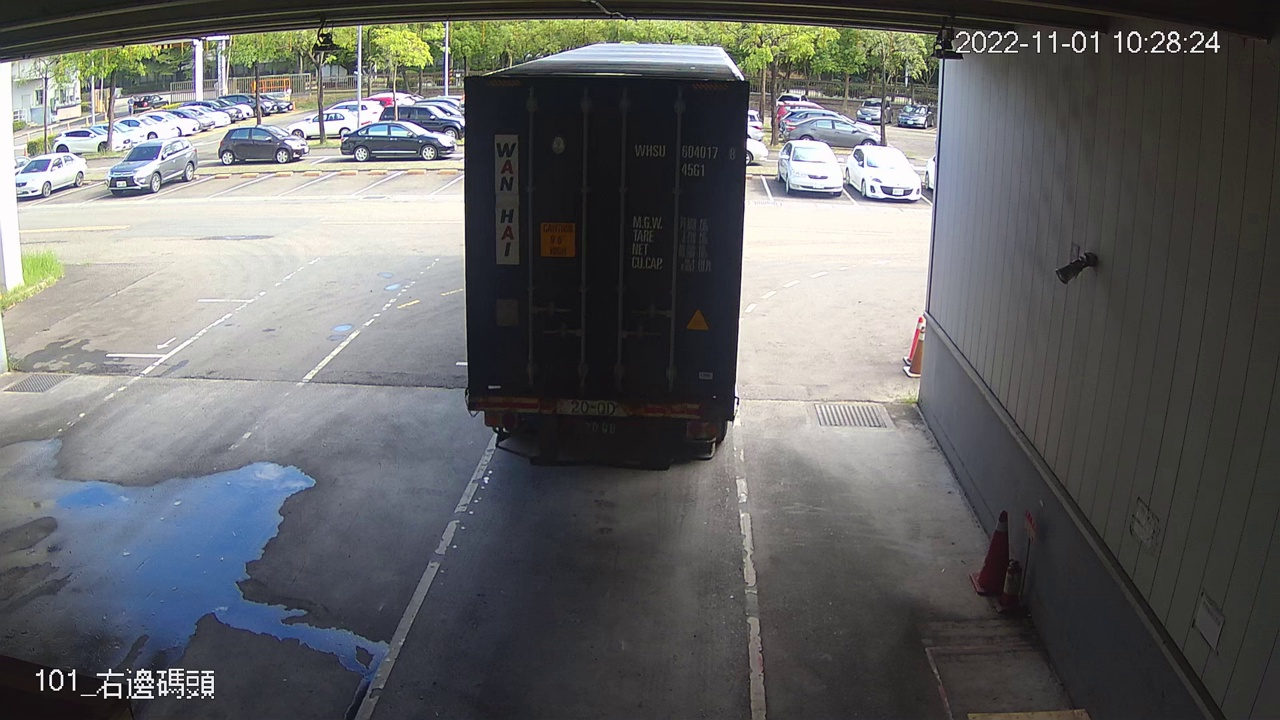container: (628, 135, 741, 182)
